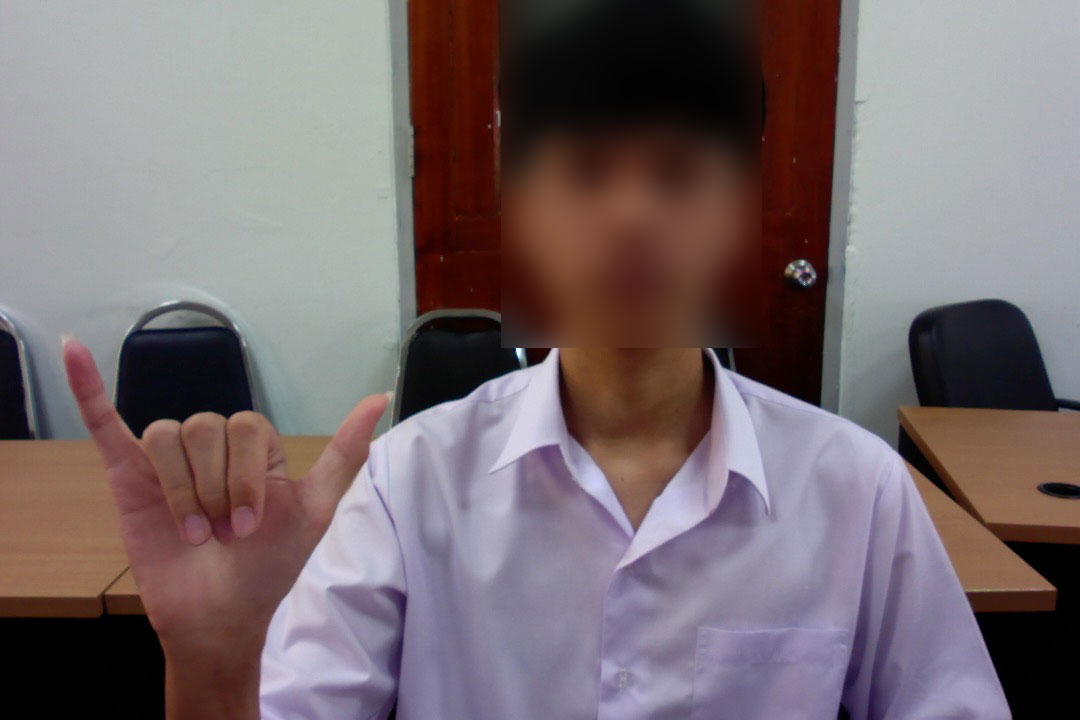yor: (52, 329, 413, 668)
